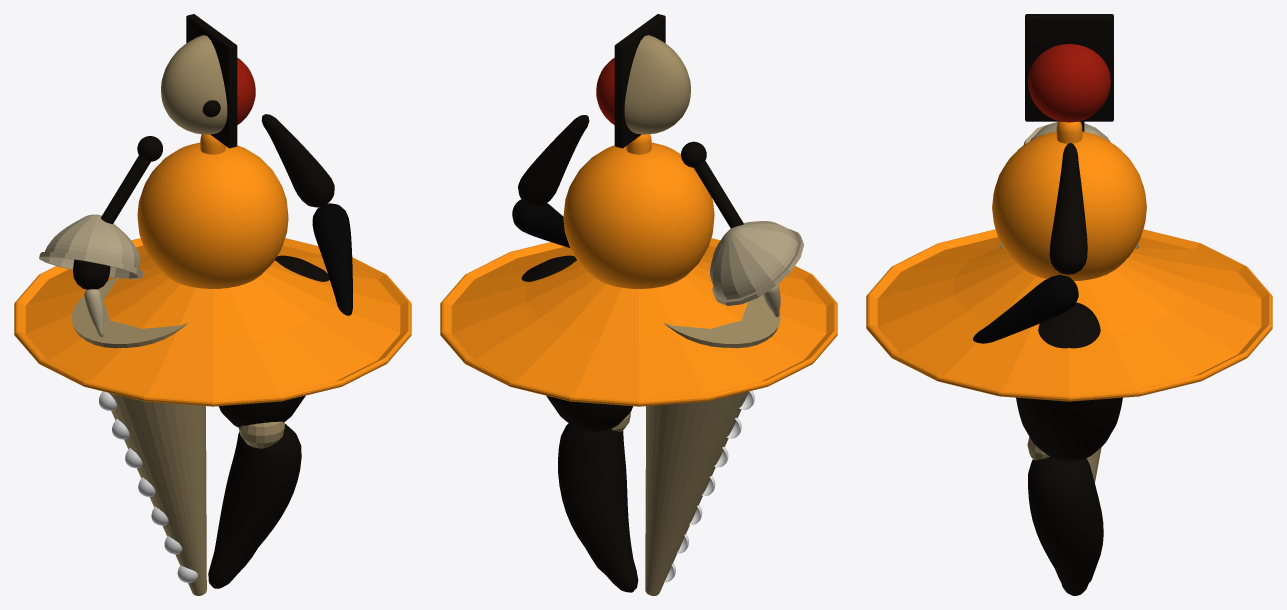
Rendered from Audience2.fbx.
3 renders of one model, left to right at view 1: azimuth 30°, elevation 25°; view 2: azimuth 150°, elevation 25°; view 3: azimuth 270°, elevation 25°, orthographic. The views are drawn at different scales.
Visible parts, largest first — view 1: Cylinder, Chest, Cone, Capsule_2_3, Sphere_1, Oil_Tank, Capsule, Capsule_2, Cube, Capsule_3, arm1, Capsule_1_2 (+4 smaller); view 2: Cylinder, Chest, Cone, Capsule_2_3, Oil_Tank, Sphere_1, Capsule_2, Capsule_3, Cube, Capsule, arm1, Sphere (+1 smaller); view 3: Cylinder, Chest, Capsule_2_3, Capsule_3, Sphere, Cube, Capsule_2, Capsule, Capsule_1.
Part boxes in pixels (left/top/right/bottom): Cylinder: left=14, top=238, right=411, bottom=406; Chest: left=137, top=142, right=288, bottom=288; Cone: left=71, top=278, right=206, bottom=595; Capsule_2_3: left=208, top=424, right=301, bottom=588; Sphere_1: left=161, top=35, right=227, bottom=134; Oil_Tank: left=39, top=214, right=143, bottom=279; Capsule: left=312, top=203, right=352, bottom=315; Capsule_2: left=261, top=114, right=334, bottom=207; Cube: left=186, top=14, right=237, bottom=148; Capsule_3: left=219, top=255, right=329, bottom=427; arm1: left=101, top=155, right=150, bottom=223; Capsule_1_2: left=238, top=421, right=284, bottom=448; Cylinder: left=440, top=238, right=837, bottom=406; Chest: left=563, top=142, right=714, bottom=288; Cone: left=645, top=295, right=780, bottom=595; Capsule_2_3: left=558, top=423, right=638, bottom=592; Oil_Tank: left=710, top=221, right=803, bottom=305; Sphere_1: left=624, top=35, right=690, bottom=134; Capsule_2: left=518, top=115, right=589, bottom=206; Capsule_3: left=521, top=255, right=632, bottom=432; Cube: left=614, top=14, right=665, bottom=148; Capsule: left=512, top=199, right=569, bottom=247; arm1: left=694, top=161, right=743, bottom=228; Sphere: left=596, top=58, right=614, bottom=124; Cylinder: left=866, top=229, right=1272, bottom=401; Chest: left=992, top=131, right=1146, bottom=281; Capsule_2_3: left=1028, top=457, right=1103, bottom=595; Capsule_3: left=1016, top=302, right=1122, bottom=461; Sphere: left=1028, top=44, right=1110, bottom=122; Cube: left=1025, top=14, right=1113, bottom=121; Capsule_2: left=1049, top=143, right=1087, bottom=274; Capsule: left=973, top=274, right=1078, bottom=343; Capsule_1: left=1056, top=121, right=1082, bottom=143.
Size of the model in its own units: 116 by 179 by 115.
